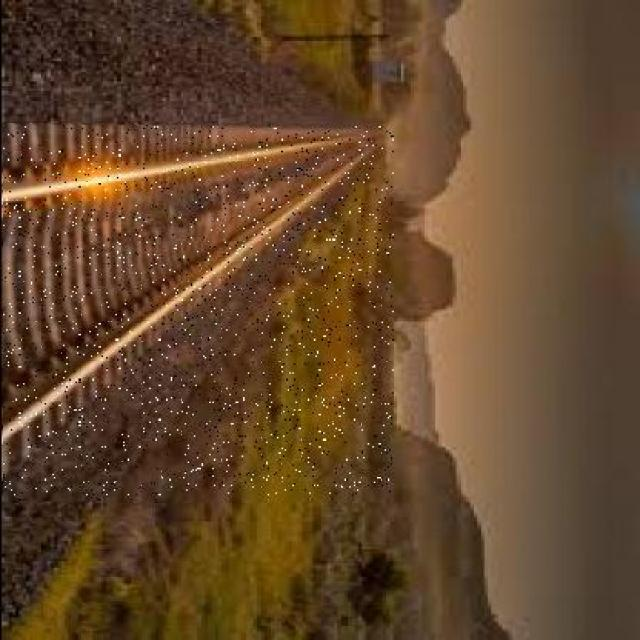rail: (2, 126, 392, 495)
